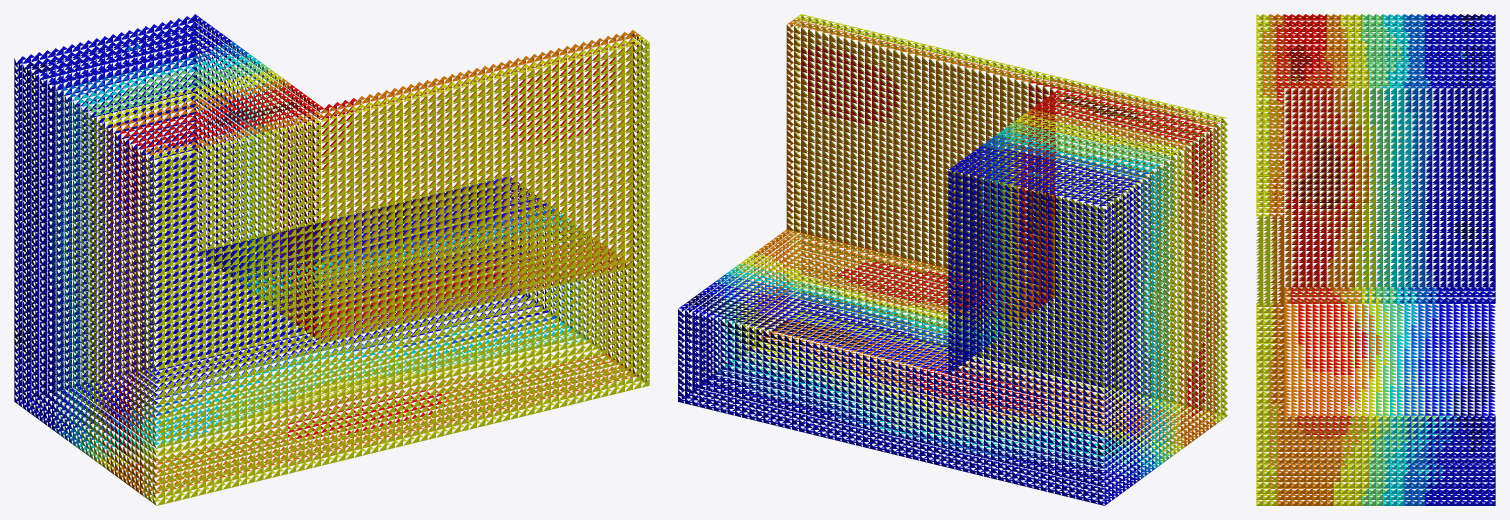
File: magnetic_block.fbx
The picture shows the model from 3 angles, left to right: view 1: azimuth 30°, elevation 25°; view 2: azimuth 150°, elevation 25°; view 3: azimuth 270°, elevation 25°; orthographic projection. The views are drawn at different scales.
Parts seen in each view (by area): view 1: MagneticBlock; view 2: MagneticBlock; view 3: MagneticBlock.
Part boxes in pixels (x1,y1,x2,y2): MagneticBlock: (14,14,649,505); MagneticBlock: (678,14,1227,505); MagneticBlock: (1256,14,1495,505).
Size of the model in its own units: 600 by 400 by 300.
